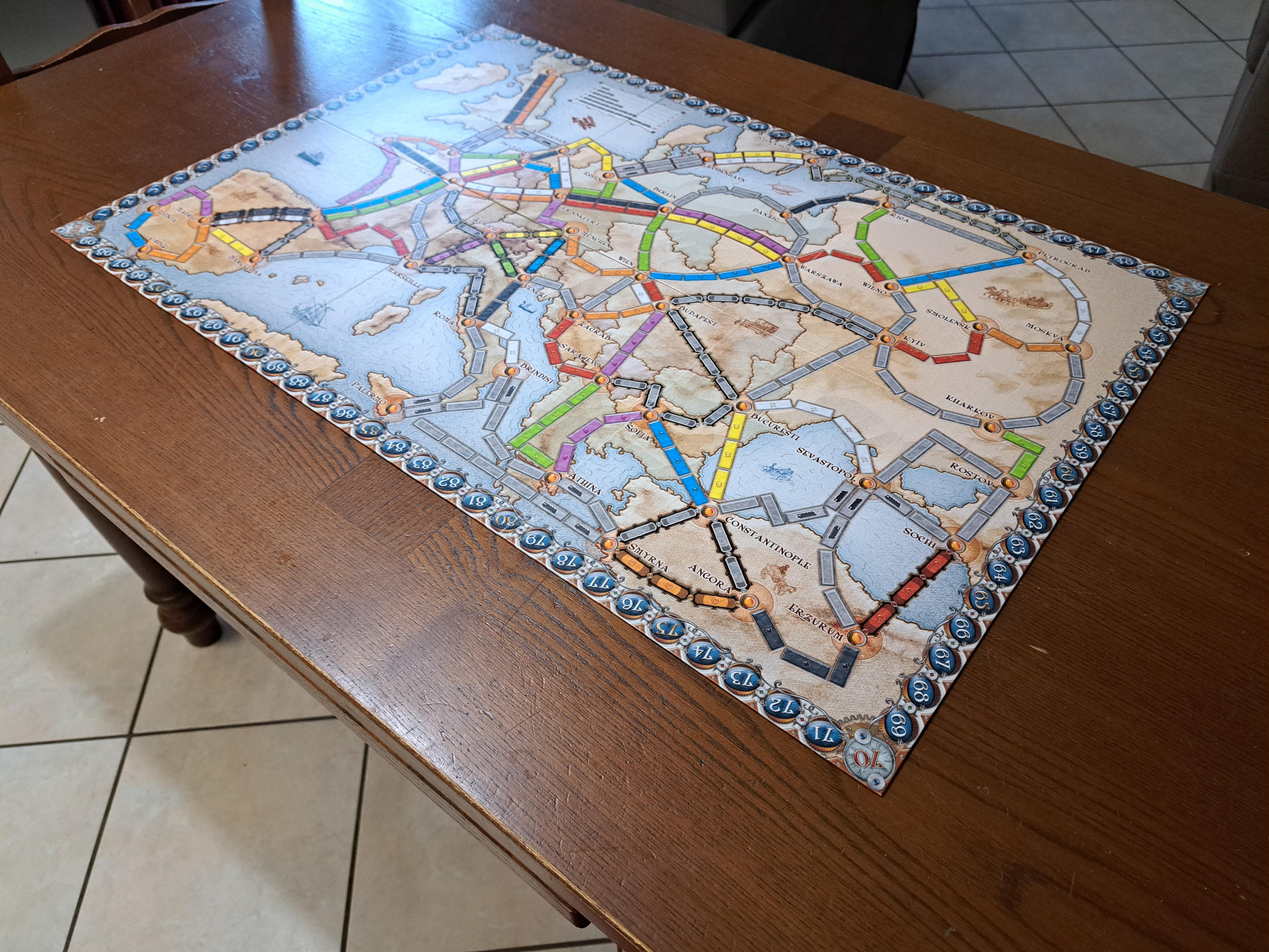corner_bl: (52, 215, 100, 243)
corner_br: (832, 724, 905, 796)
corner_tl: (480, 23, 509, 38)
corner_tr: (1163, 273, 1209, 301)
